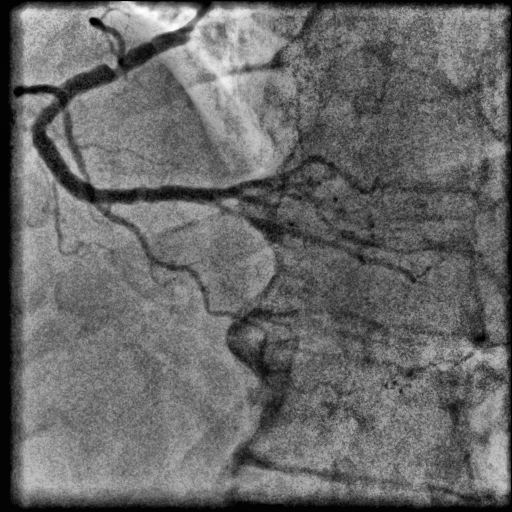pborca: (212, 155, 378, 199)
pda: (214, 200, 424, 284)
rca: (32, 26, 217, 205)
